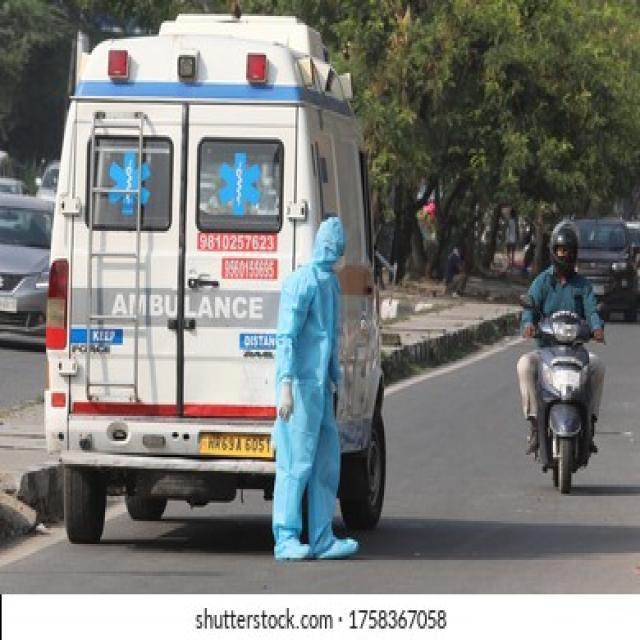ambulance: (48, 8, 387, 544)
